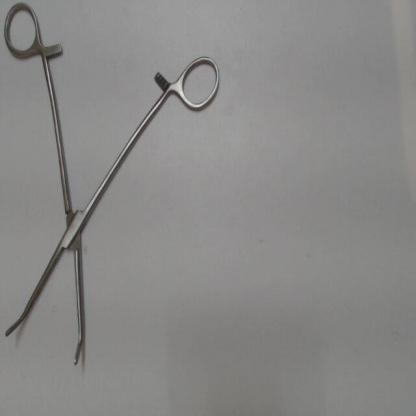Lahey Forceps: (2, 1, 226, 370)
